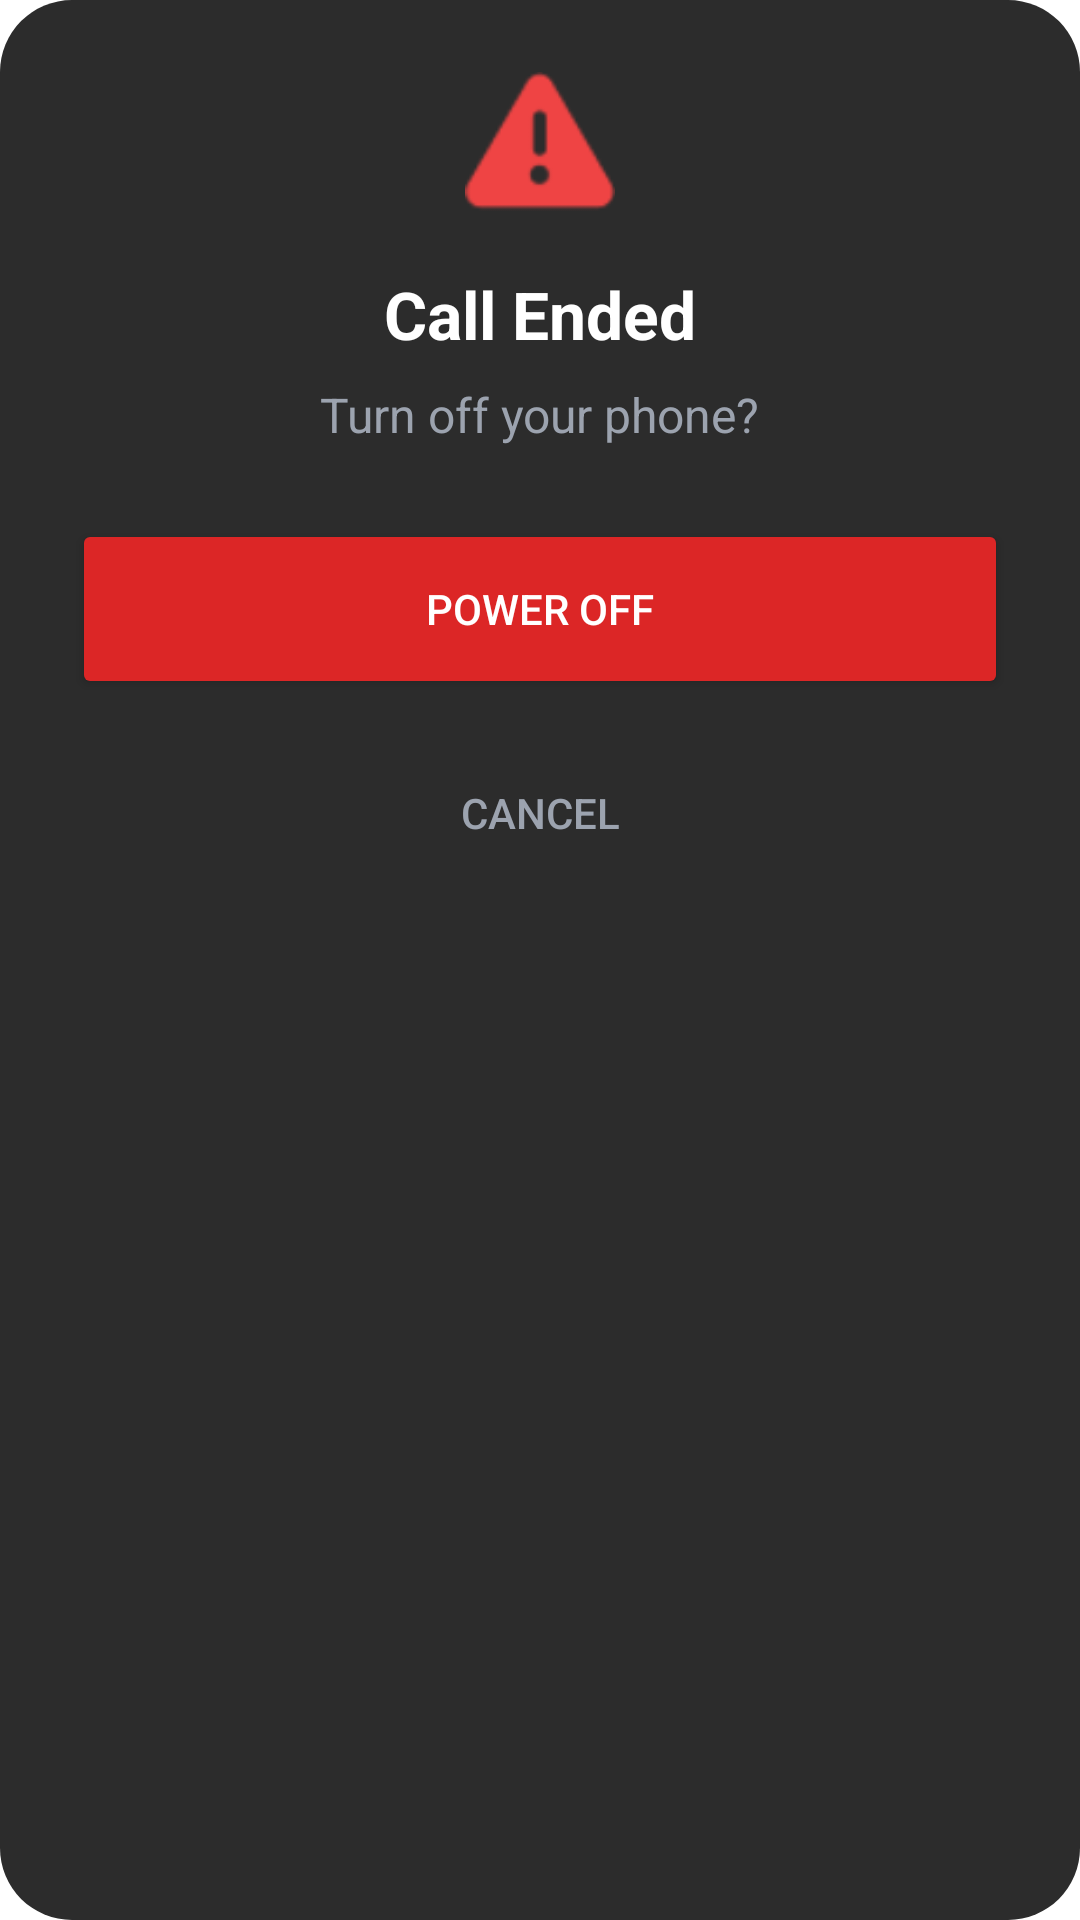

Screen size 1080 x 1920. Icon name, then its center in pixels as (x,y):
Alert Icon: (540,140)
